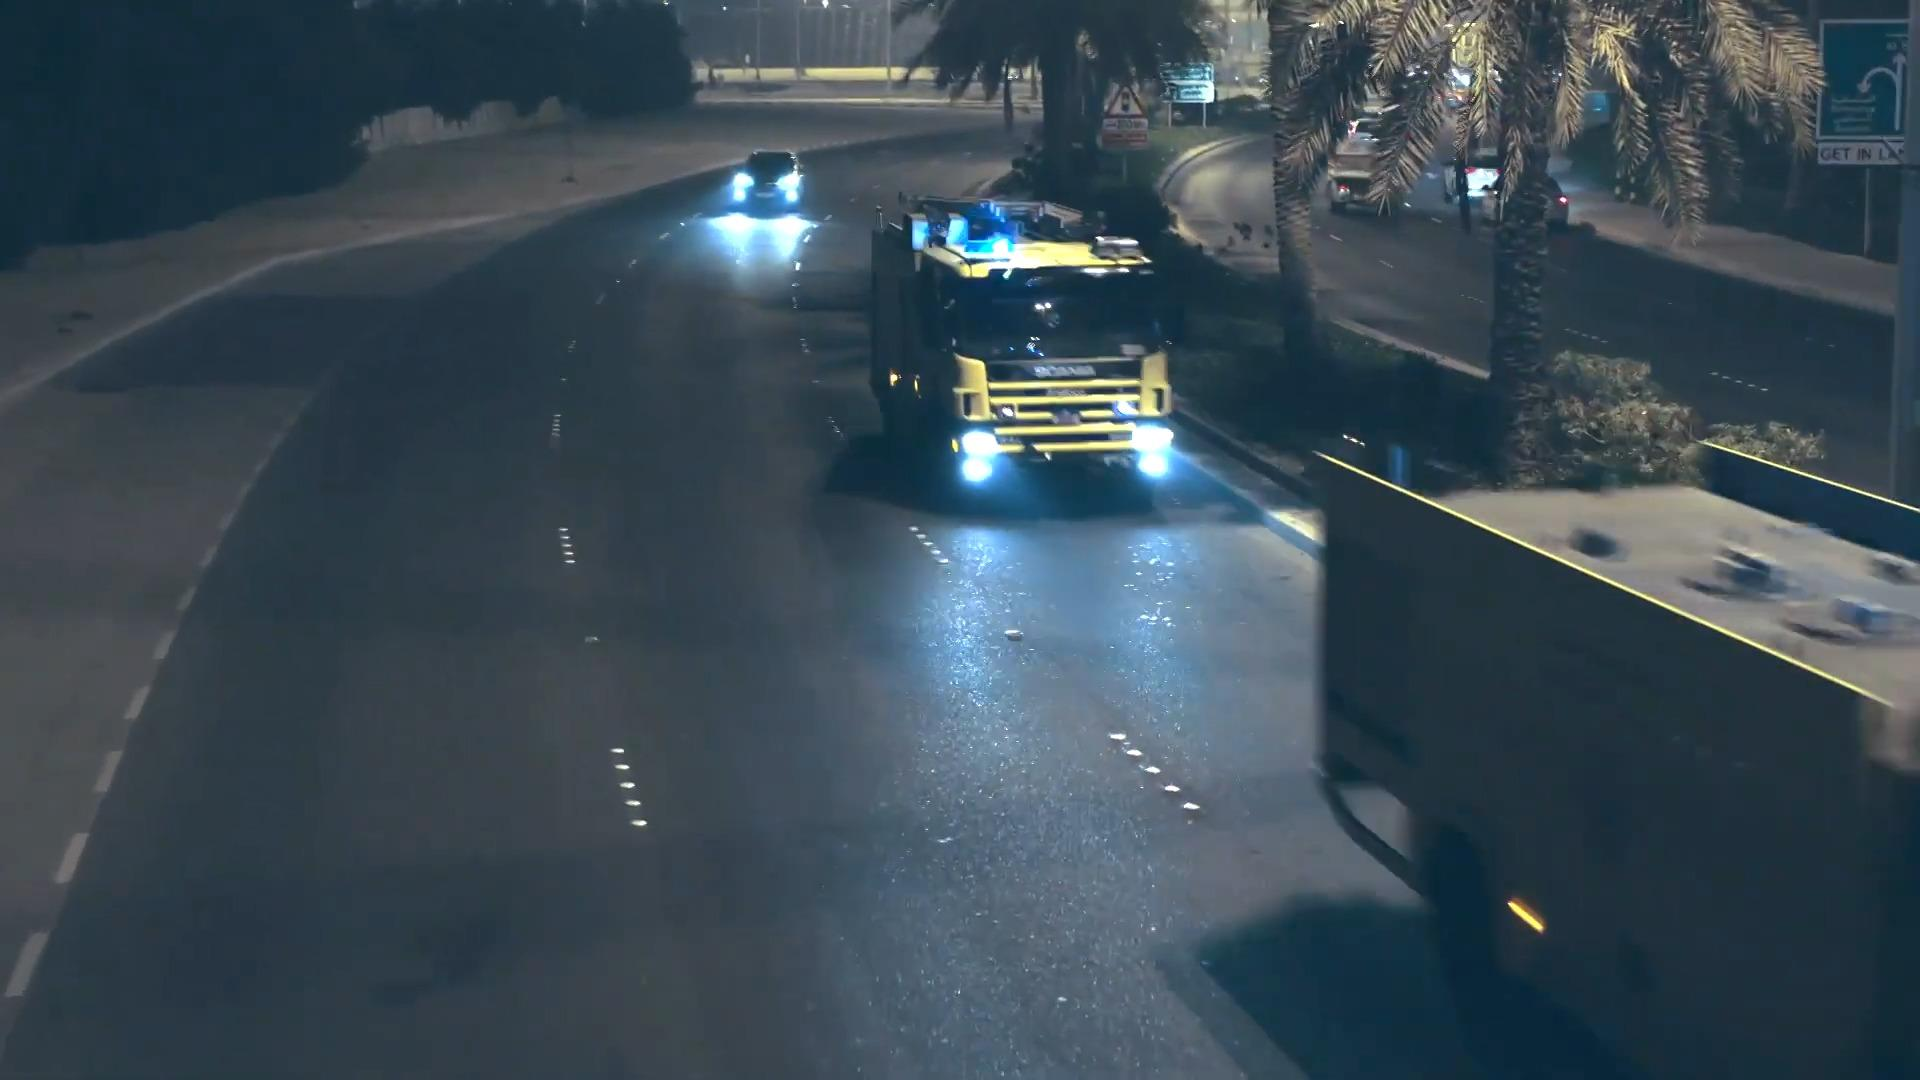firetruck_on: (1313, 448, 1920, 1080), (865, 195, 1182, 497)
